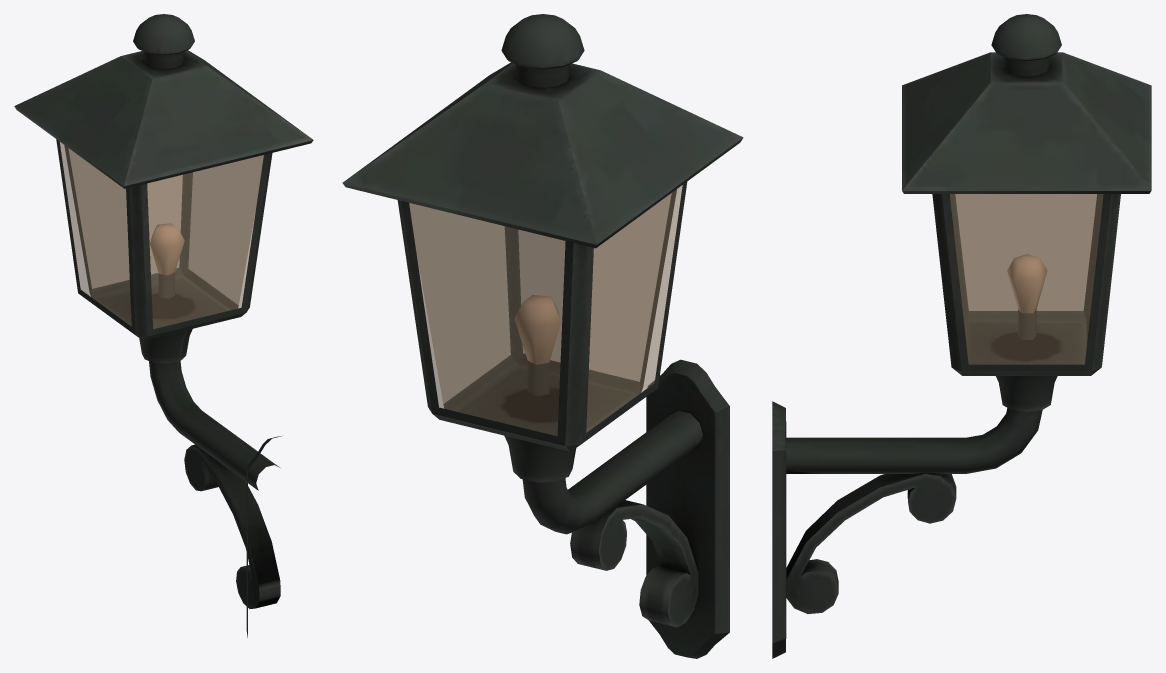
The picture shows the model from 3 angles, left to right: view 1: azimuth 30°, elevation 25°; view 2: azimuth 150°, elevation 25°; view 3: azimuth 270°, elevation 25°; orthographic projection. The views are drawn at different scales.
Visible parts, largest first — view 1: body0_model0_lod0_mesh0, body0_model0_lod0_mesh1; view 2: body0_model0_lod0_mesh0, body0_model0_lod0_mesh1; view 3: body0_model0_lod0_mesh0, body0_model0_lod0_mesh1.
Boxes of the visible parts, box(x1,y1,x2,y2) form: body0_model0_lod0_mesh0: box(14, 14, 313, 637); body0_model0_lod0_mesh1: box(60, 142, 263, 328); body0_model0_lod0_mesh0: box(342, 14, 743, 658); body0_model0_lod0_mesh1: box(409, 185, 682, 435); body0_model0_lod0_mesh0: box(772, 14, 1151, 658); body0_model0_lod0_mesh1: box(950, 194, 1103, 364).
Bounding box in the file's own units: 20.67 × 58.09 × 31.4.
Materials: 2 (2 with a texture image).
